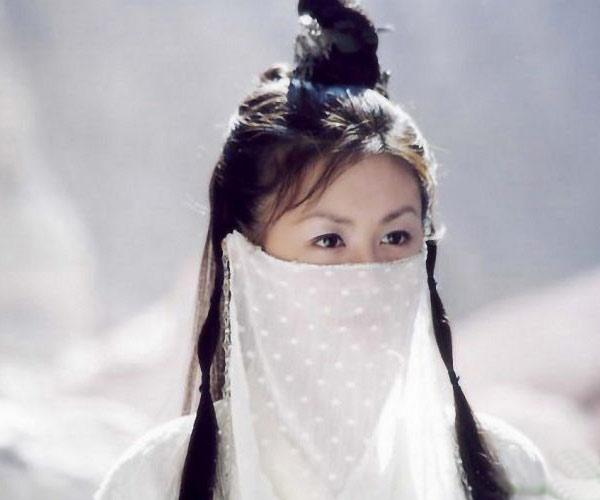face_mask: (257, 150, 426, 374)
